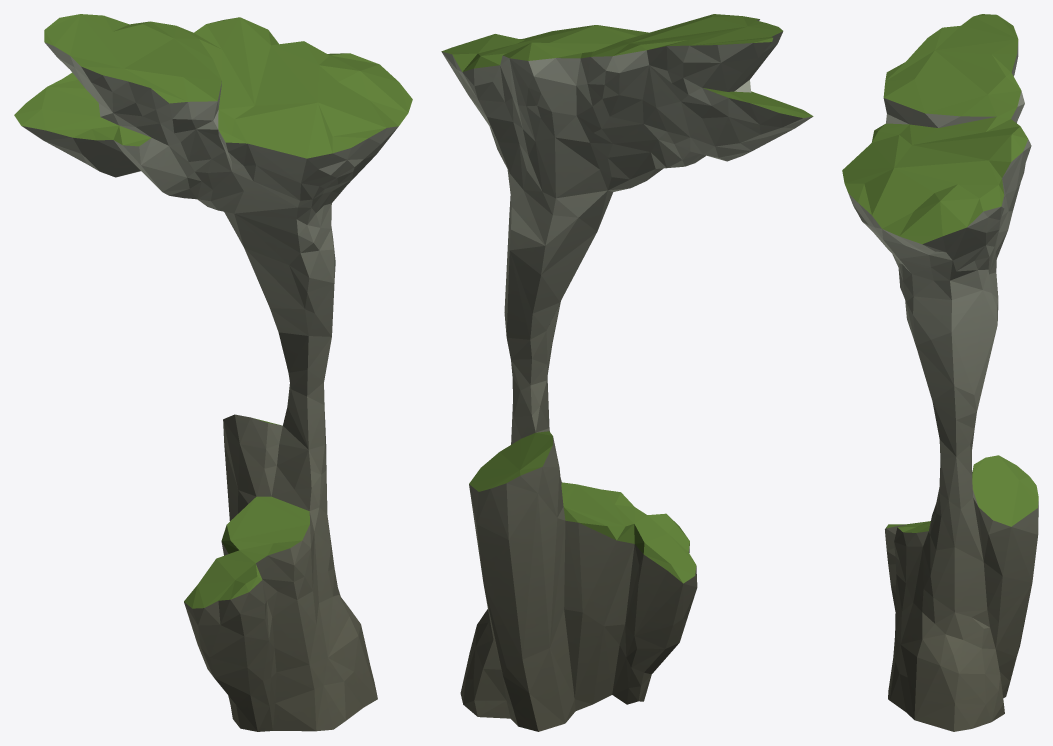
Rendered from ZLP_Rock_D_1.FBX.
3 views of the same model, side by side, from view 1: azimuth 30°, elevation 25°; view 2: azimuth 150°, elevation 25°; view 3: azimuth 270°, elevation 25° (orthographic). The views are drawn at different scales.
Parts seen in each view (by area): view 1: ZLP_Rock_D_1; view 2: ZLP_Rock_D_1; view 3: ZLP_Rock_D_1.
Part boxes in pixels (x1,y1,x2,y2): ZLP_Rock_D_1: [14, 14, 412, 731]; ZLP_Rock_D_1: [441, 14, 813, 731]; ZLP_Rock_D_1: [842, 14, 1038, 731].
Size of the model in its own units: 522 by 968 by 291.
